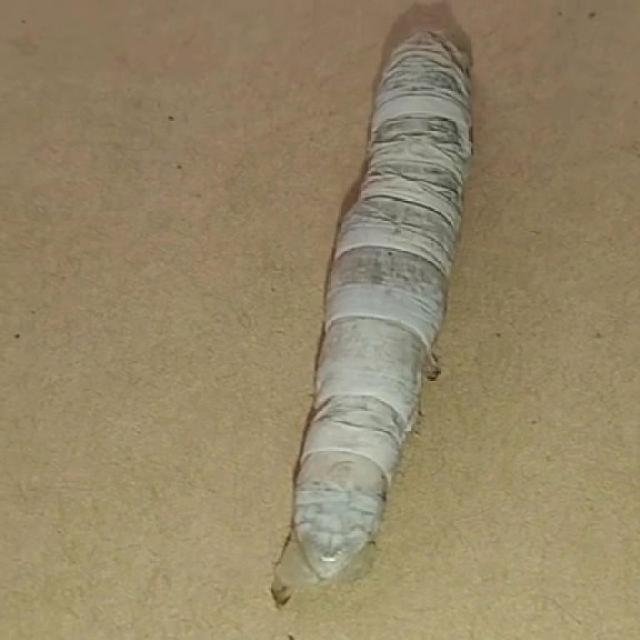Grasserie: (244, 15, 532, 618)
